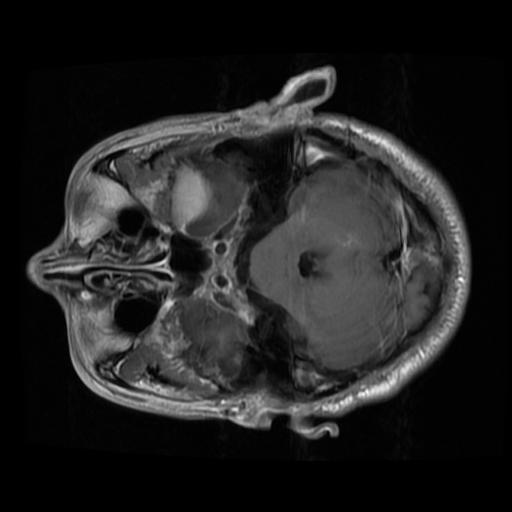meningioma: (169, 161, 212, 231)
